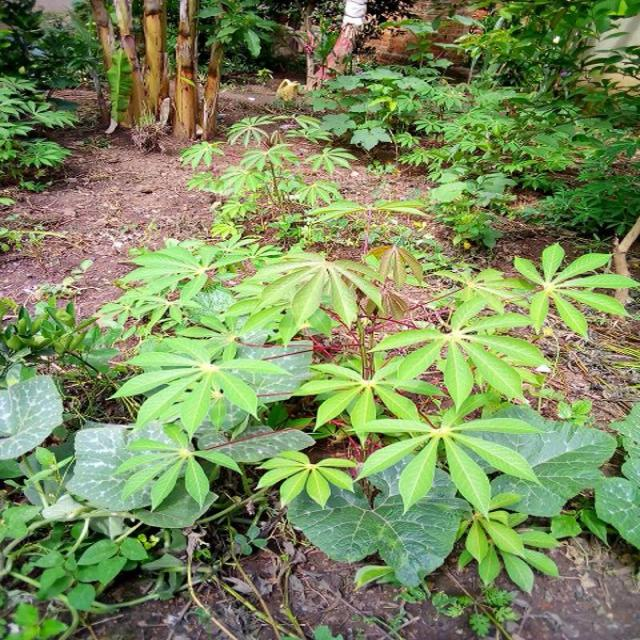cassava leaf: (1, 373, 64, 461)
